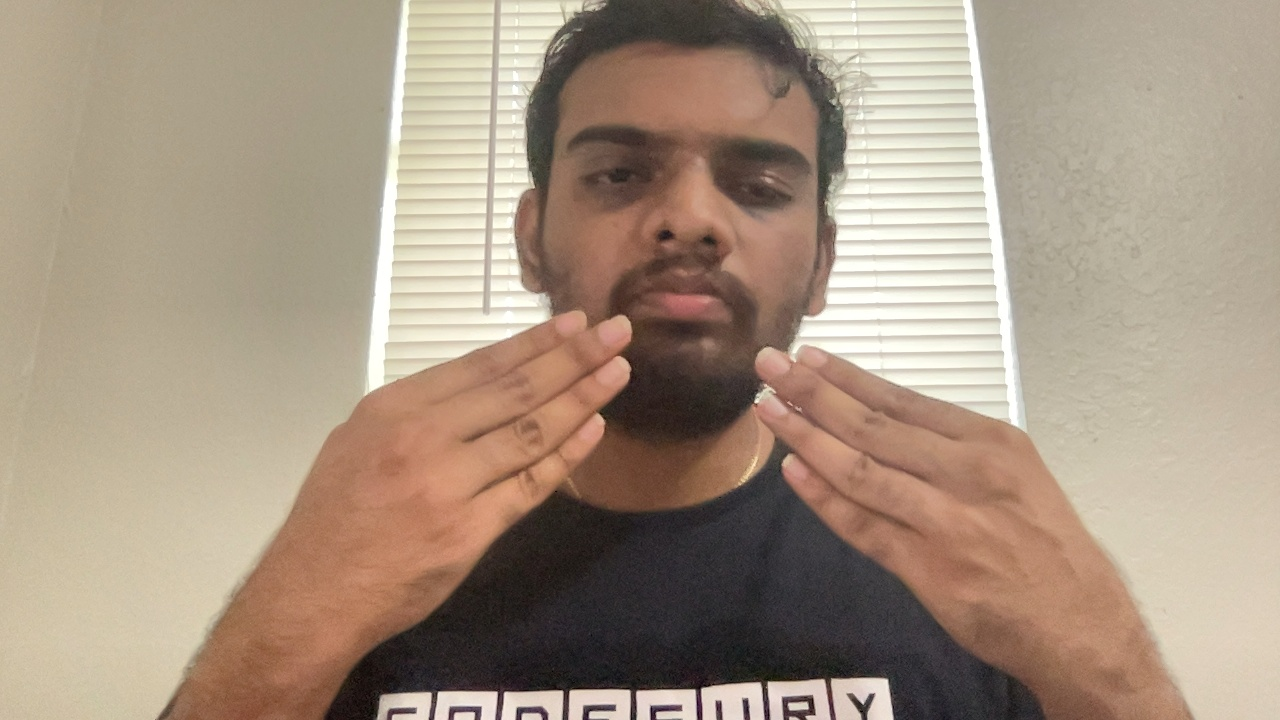thanks: (238, 301, 1175, 696)
